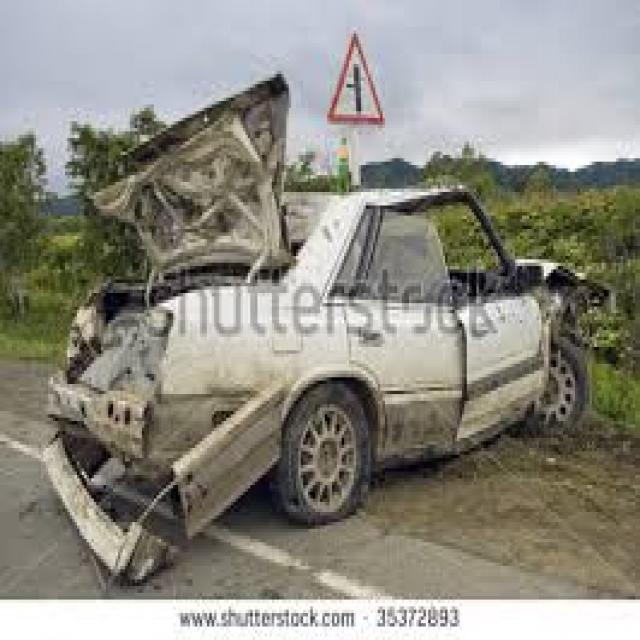severe: (41, 46, 612, 514)
